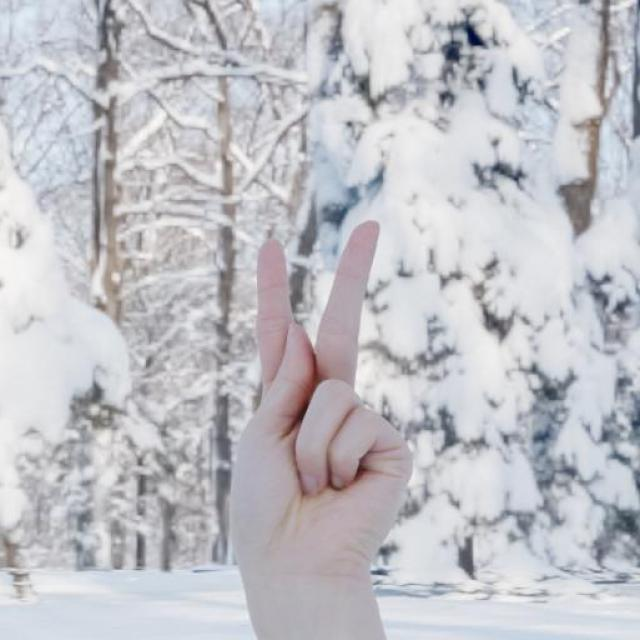K: (223, 220, 416, 578)
